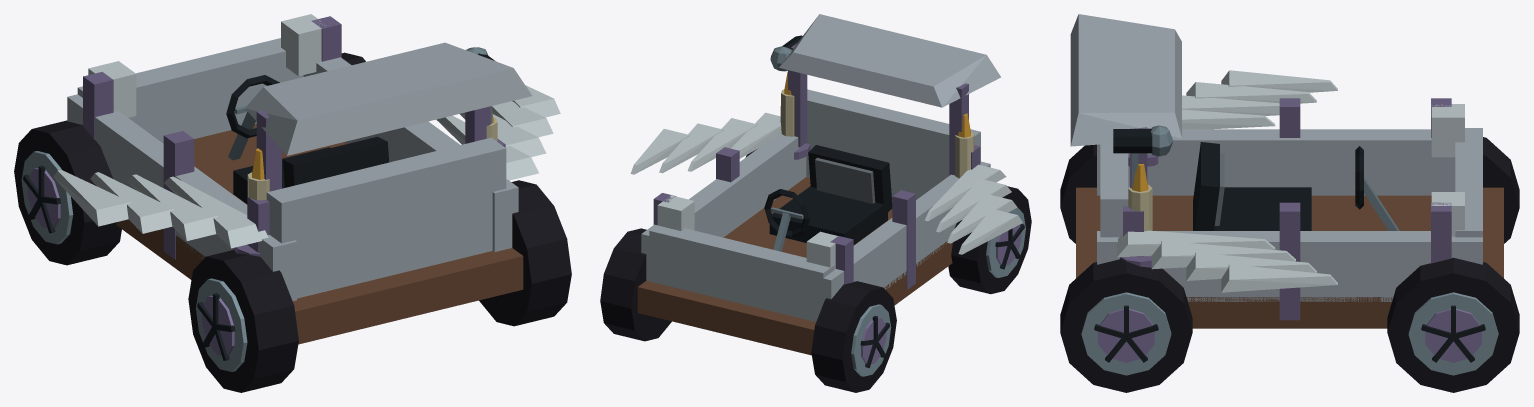
The model's file is kart.glb.
The picture shows the model from 3 angles, left to right: view 1: azimuth 30°, elevation 25°; view 2: azimuth 150°, elevation 25°; view 3: azimuth 270°, elevation 25°; orthographic projection. The views are drawn at different scales.
Parts seen in each view (by area): view 1: identity-carriage-carriage-timber-coach, identity-carriage-motif-wings-feather, wheel-rear-left, wheel-front-left, wheel-rear-right, identity-carriage-driver-cockpit, identity-carriage-motif-candles; view 2: identity-carriage-carriage-timber-coach, identity-carriage-motif-wings-feather, identity-carriage-driver-cockpit, wheel-front-left, wheel-rear-left, wheel-front-right, identity-carriage-motif-candles, identity-carriage-motif-microphone; view 3: identity-carriage-carriage-timber-coach, wheel-front-right, identity-carriage-motif-wings-feather, wheel-rear-right, identity-carriage-driver-cockpit, wheel-front-left, wheel-rear-left, identity-carriage-motif-microphone, identity-carriage-motif-candles.
Part boxes in pixels (<box>): identity-carriage-carriage-timber-coach: <box>67,14,532,344</box>; identity-carriage-motif-wings-feather: <box>53,85,560,248</box>; wheel-rear-left: <box>188,249,298,392</box>; wheel-front-left: <box>14,120,121,265</box>; wheel-rear-right: <box>479,180,571,326</box>; identity-carriage-driver-cockpit: <box>226,75,388,203</box>; identity-carriage-motif-candles: <box>234,113,497,256</box>; identity-carriage-carriage-timber-coach: <box>637,14,1000,355</box>; identity-carriage-motif-wings-feather: <box>630,112,1022,254</box>; identity-carriage-driver-cockpit: <box>764,145,892,251</box>; wheel-front-left: <box>811,281,896,392</box>; wheel-rear-left: <box>948,186,1031,294</box>; wheel-front-right: <box>600,228,671,341</box>; identity-carriage-motif-candles: <box>781,71,974,178</box>; identity-carriage-motif-microphone: <box>770,35,802,71</box>; identity-carriage-carriage-timber-coach: <box>1070,14,1503,328</box>; wheel-front-right: <box>1387,257,1519,392</box>; identity-carriage-motif-wings-feather: <box>1117,70,1337,292</box>; wheel-rear-right: <box>1060,259,1192,392</box>; identity-carriage-driver-cockpit: <box>1193,142,1399,230</box>; wheel-front-left: <box>1483,137,1519,243</box>; wheel-rear-left: <box>1060,144,1096,243</box>; identity-carriage-motif-microphone: <box>1113,125,1173,189</box>; identity-carriage-motif-candles: <box>1120,155,1158,267</box>.
Size of the model in its own units: 2.88 by 1.63 by 2.64.
